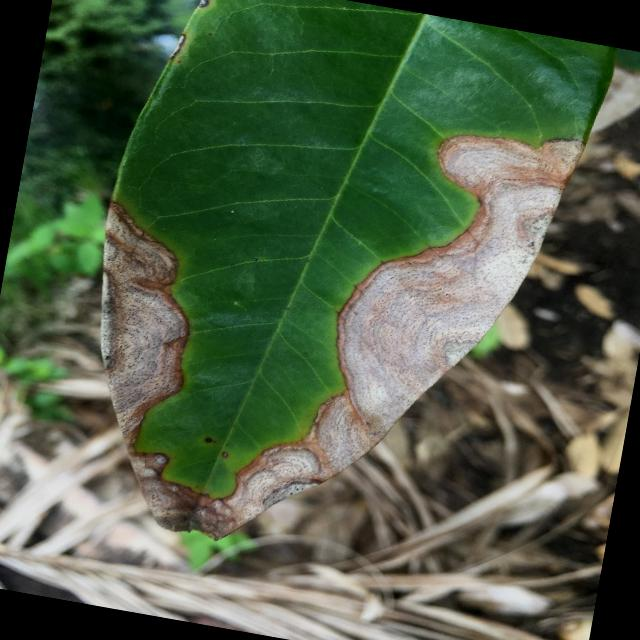Leaf Blight: (44, 0, 627, 603)
